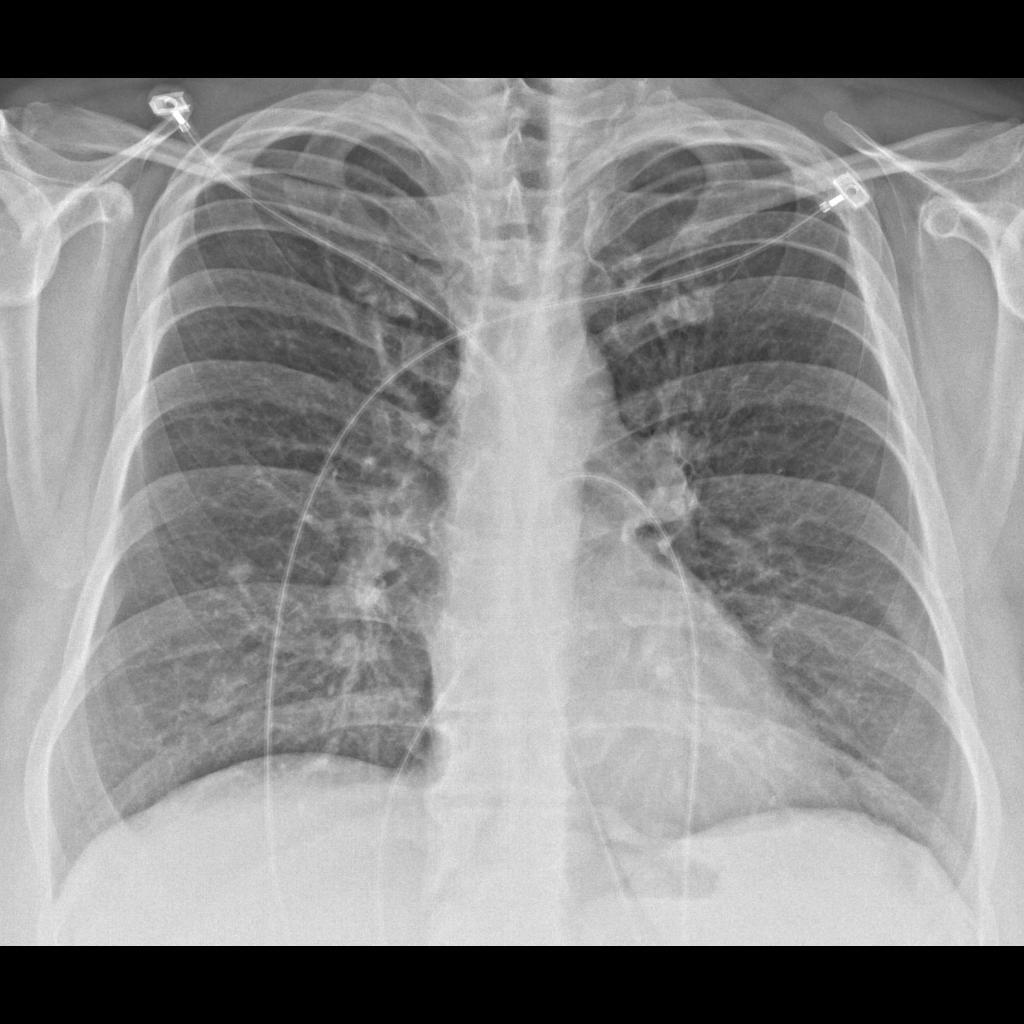Nodule: (194, 664, 254, 723), (213, 554, 254, 593)
